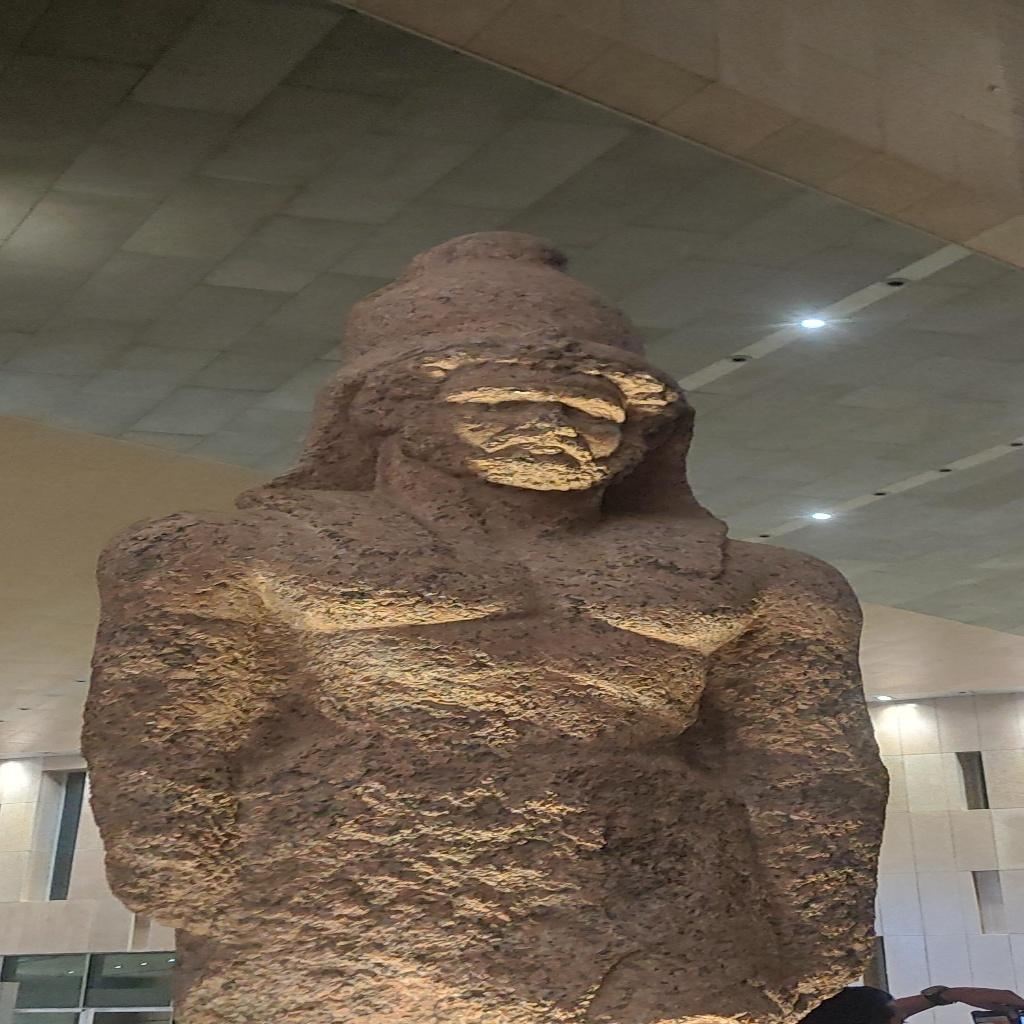Statue of Carcala: (76, 227, 898, 1020)
